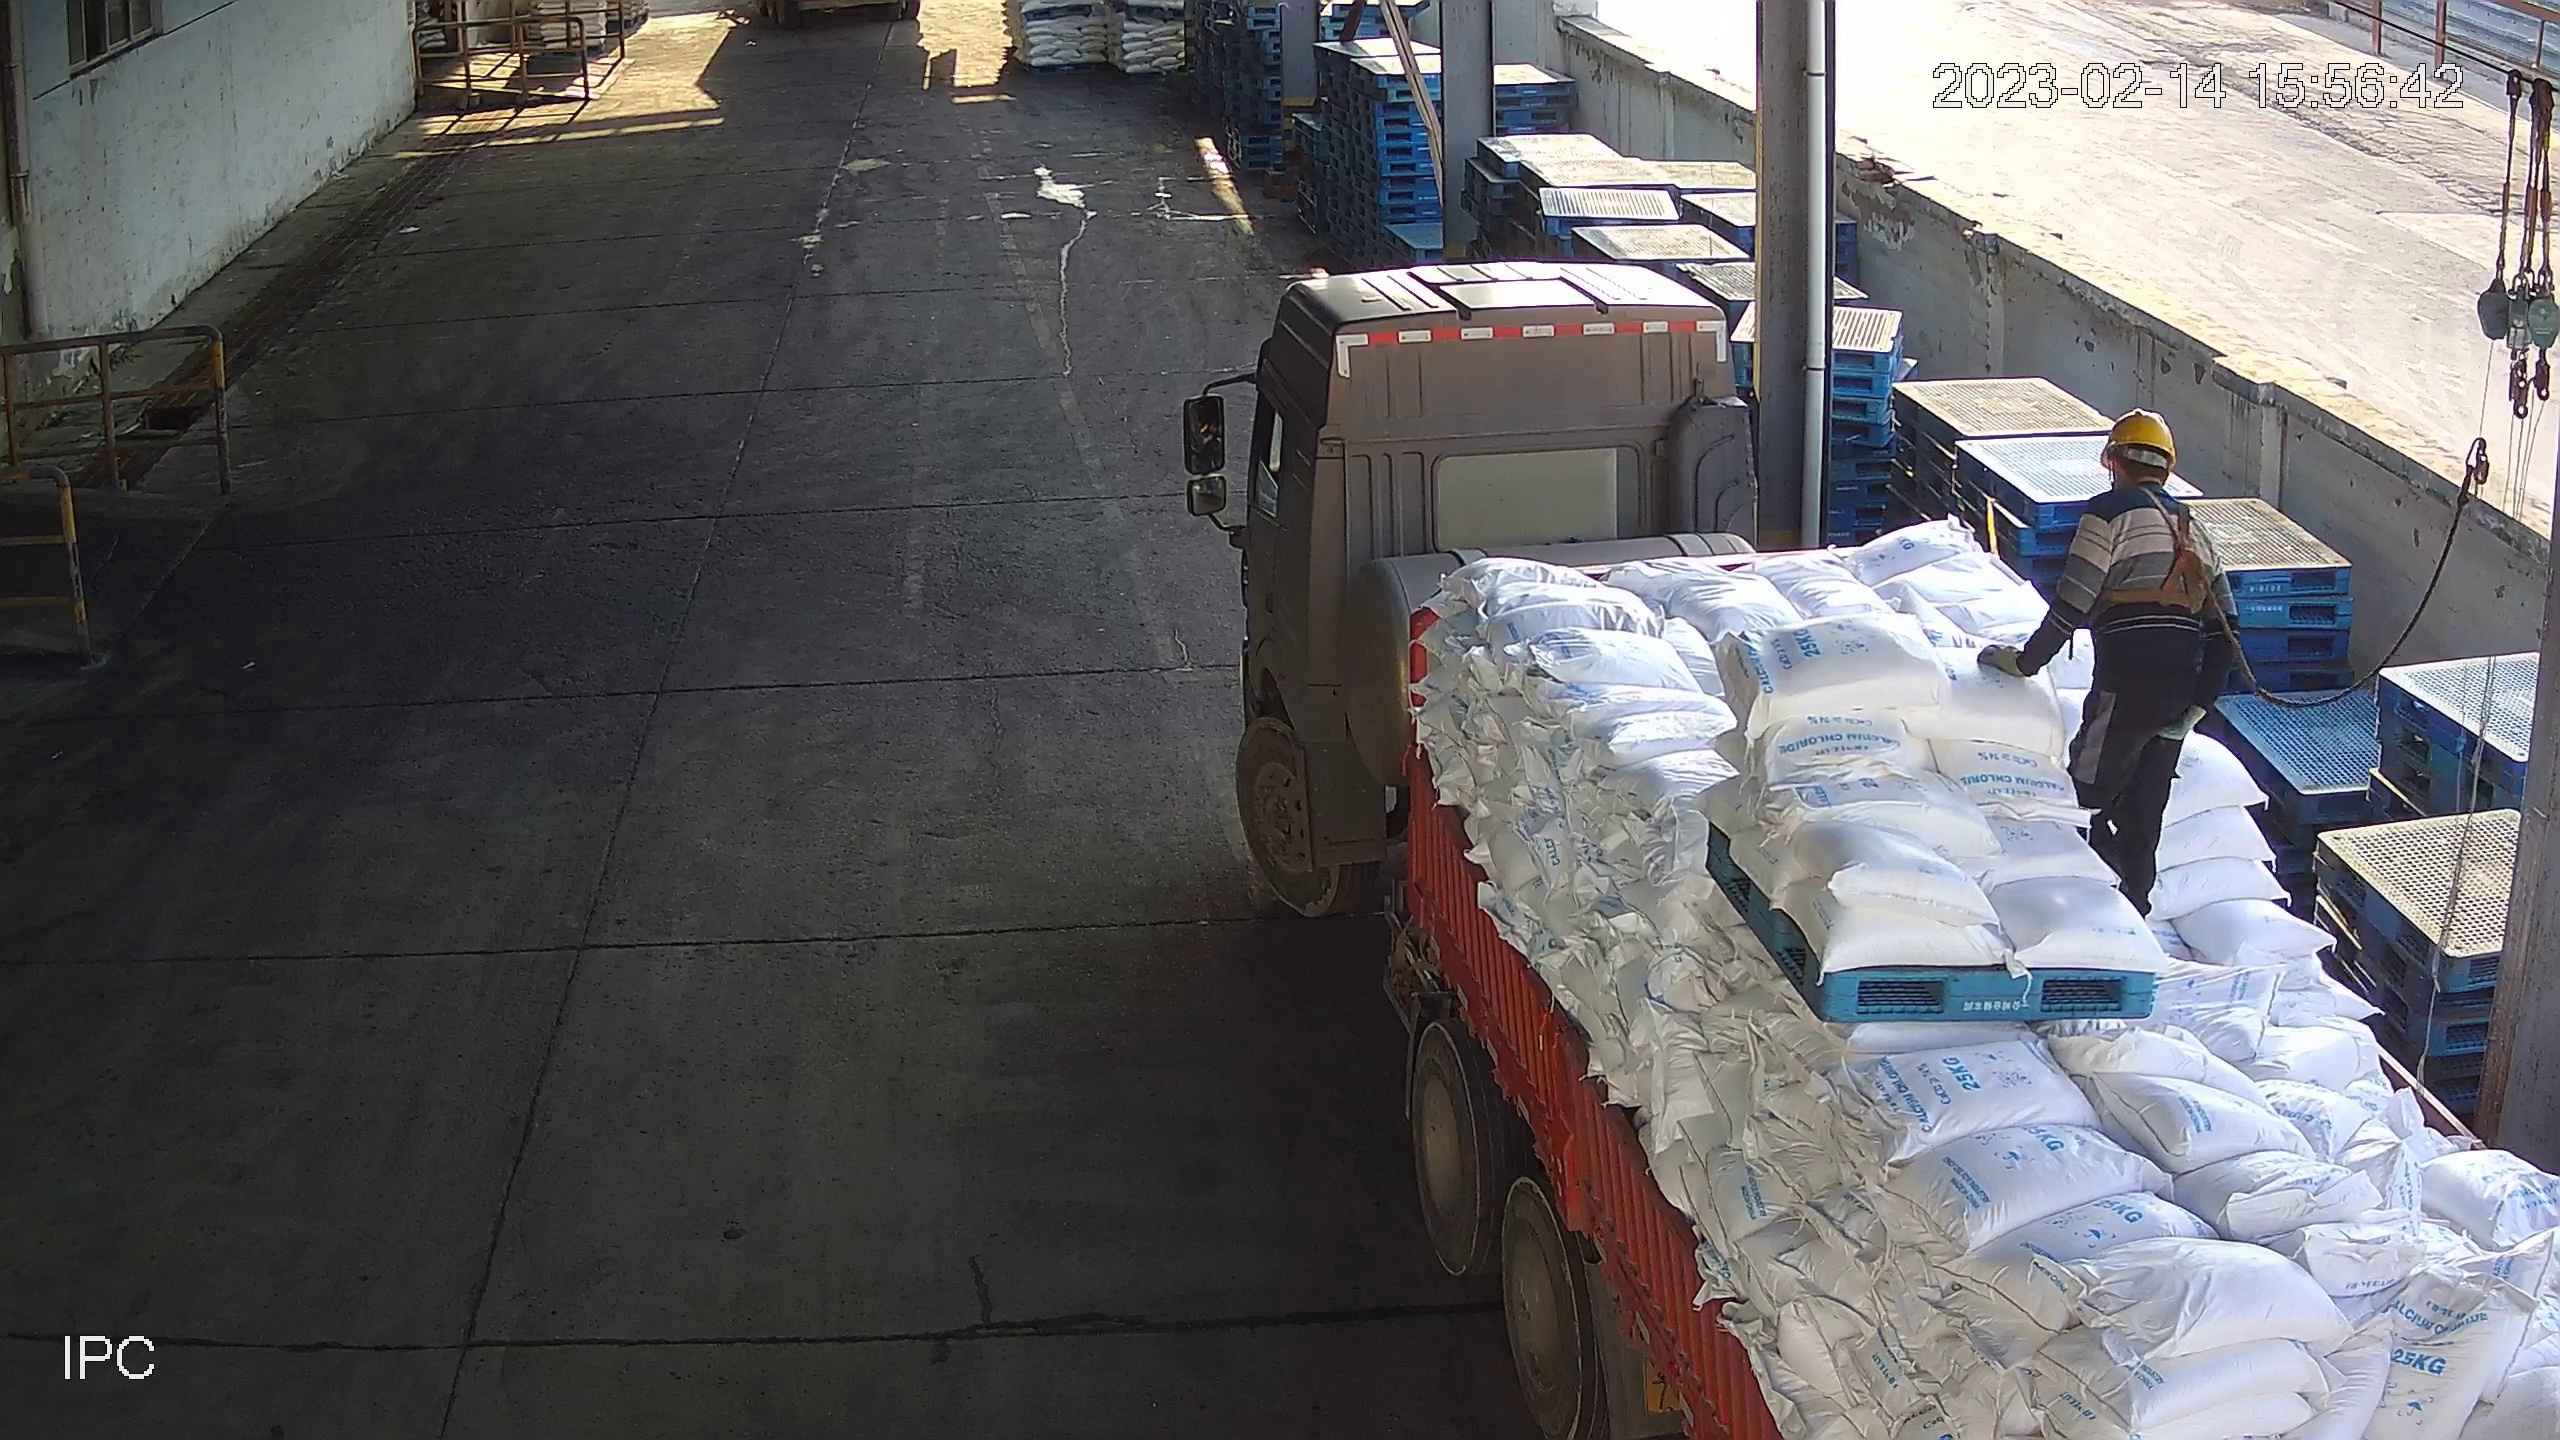belt: (2102, 481, 2233, 639)
head: (2079, 403, 2211, 553)
helmet: (2096, 405, 2177, 473)
people: (1976, 409, 2237, 924)
truck: (1224, 259, 2560, 1440)
